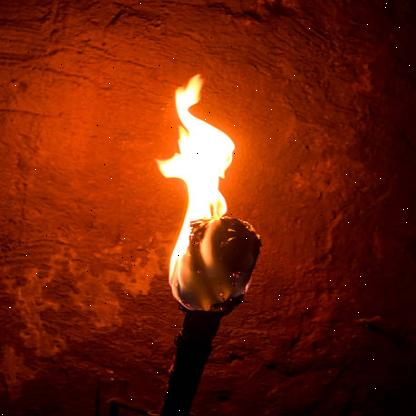fire: (152, 70, 267, 316)
